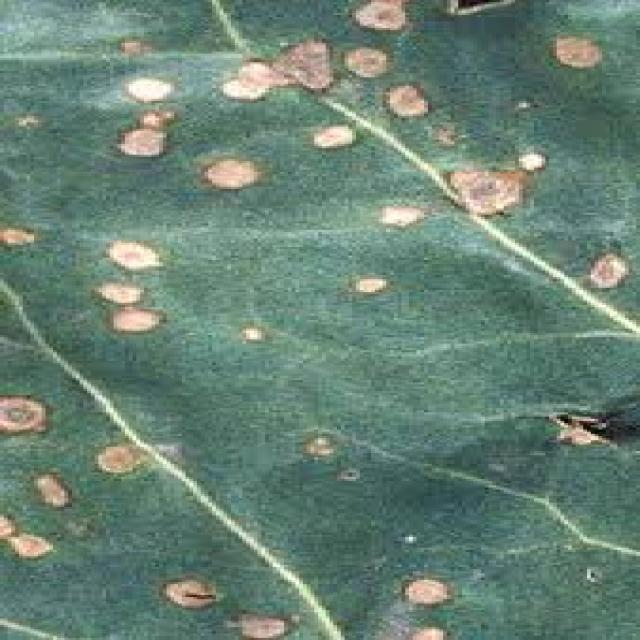bercak_daun: (122, 54, 623, 640)
